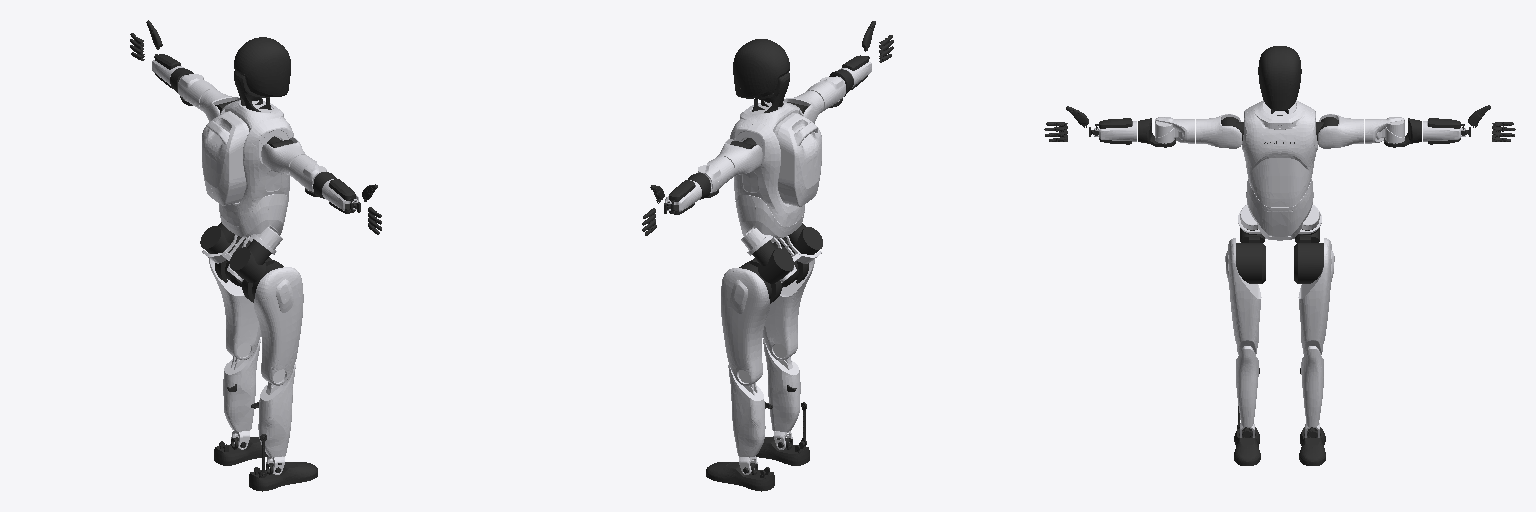
--- What the picture shows (computed from the rendered views, not written in the file) ---
The picture shows the robot from 3 angles, left to right: view 1: azimuth 30°, elevation 25°; view 2: azimuth 150°, elevation 25°; view 3: azimuth 270°, elevation 25°; orthographic projection.
Model a2_t2d0_ultra with 74 links and 73 joints (20 revolute, 53 fixed), rooted at base_link, posed all joints at 0.
Visible links, largest first — view 1: base_link, right_hip_pitch, head_link02, right_tarsus, left_tarsus, left_hip_pitch, right_toe_roll, right_hip_roll, left_toe_roll, right_arm_link02, right_arm_link03, left_arm_link03 (+3 smaller); view 2: base_link, left_hip_pitch, head_link02, left_tarsus, right_tarsus, right_hip_pitch, left_toe_roll, left_hip_roll, right_toe_roll, left_arm_link02, left_arm_link03, right_hip_roll (+3 smaller); view 3: base_link, head_link02, left_hip_pitch, right_hip_pitch, right_tarsus, left_tarsus, right_hip_yaw, left_hip_yaw, left_arm_link02, right_arm_link02, left_arm_link03, right_arm_link03 (+4 smaller).
Link boxes in pixels (box(x1,y1,x2,y2)): base_link: box(202, 100, 293, 281); right_hip_pitch: box(254, 267, 303, 385); head_link02: box(234, 37, 290, 96); right_tarsus: box(258, 364, 295, 474); left_tarsus: box(223, 339, 260, 449); left_hip_pitch: box(209, 237, 260, 359); right_toe_roll: box(249, 462, 317, 491); right_hip_roll: box(230, 239, 271, 282); left_toe_roll: box(214, 437, 267, 465); right_arm_link02: box(261, 137, 305, 176); right_arm_link03: box(289, 155, 326, 191); left_arm_link03: box(178, 74, 216, 110); base_link: box(730, 101, 821, 282); left_hip_pitch: box(721, 268, 769, 385); head_link02: box(733, 39, 789, 98); left_tarsus: box(728, 365, 765, 474); right_tarsus: box(763, 339, 800, 449); right_hip_pitch: box(763, 238, 814, 360); left_toe_roll: box(706, 462, 774, 491); left_hip_roll: box(752, 240, 793, 283); right_toe_roll: box(756, 437, 809, 465); left_arm_link02: box(717, 139, 762, 176); left_arm_link03: box(698, 156, 734, 192); right_hip_roll: box(785, 223, 822, 254); base_link: box(1238, 100, 1321, 240); head_link02: box(1258, 46, 1301, 110); left_hip_pitch: box(1298, 238, 1334, 354); right_hip_pitch: box(1225, 238, 1261, 354); right_tarsus: box(1236, 346, 1258, 437); left_tarsus: box(1301, 346, 1323, 437); right_hip_yaw: box(1236, 236, 1265, 283); left_hip_yaw: box(1294, 236, 1323, 283); left_arm_link02: box(1318, 114, 1363, 148); right_arm_link02: box(1196, 114, 1241, 148); left_arm_link03: box(1365, 117, 1404, 143); right_arm_link03: box(1155, 117, 1194, 143).
Bounding box of the posed robot: 0.3663 × 1.8 × 1.69 m (x, y, z).
Meshes: 59 distinct files referenced, 65 mesh visuals loaded (53 binary STL); not drawn: 7 (reference not matched to a file when rendering).

robot.urdf — a2_t2d0_ultra:
<?xml version="1.0" encoding="utf-8"?>
<!-- This URDF was automatically created by SolidWorks to URDF Exporter! Originally created by Stephen Brawner ([email redacted])
     Commit Version: 1.6.0-4-g7f85cfe  Build Version: 1.6.7995.38578
     For more information, please see http://wiki.ros.org/sw_urdf_exporter -->
     
<robot name="a2_t2d0_ultra">
  <link name="base_link">
    <inertial>
      <origin xyz="-0.07088950 -0.00016512 0.16138088" rpy="0 0 0" />
      <mass value="18.89945962" />
      <inertia ixx="0.59376016" iyy="0.55503329" izz="0.18455985" ixy="0.00015891" ixz="0.00353796" iyz="-0.00043902"/>
    </inertial>
    <visual>
      <origin xyz="0 0 0" rpy="0 0 0" />
      <geometry>  
        <mesh filename="../mesh/body.stl"/>
      </geometry>
      <material name="metallic silver">
        <color rgba="0.878431373 0.878431373 0.901960784 1" />
      </material>
    </visual>
    <collision>
      <origin xyz="0 0 0" rpy="0 0 0" />
      <geometry>
        <mesh filename="../convex/body_hull.stl"/>
      </geometry>
    </collision>
  </link>

  <!-- left leg -->
  <link name="left_hip_roll">
    <inertial>
      <origin xyz="0.00011252 0.02130615 -0.07465143" rpy="0 0 0" />
      <mass value="2.39059365" />
      <inertia ixx="0.00381223" iyy="0.00368166" izz="0.00334373" ixy="-0.00000253" ixz="0.00000433" iyz="0.00019809"/>
    </inertial>
    <visual>
      <origin xyz="0 0 0" rpy="0 0 0" />
      <geometry>
        <mesh filename="../mesh/left_hip_roll.stl" />
      </geometry>
      <material name="metallic black">
        <color rgba="0.235294118 0.235294118 0.235294118 1" />
      </material>
    </visual>
    <collision>
      <origin xyz="0 0 0" rpy="0 0 0" />
      <geometry>
        <mesh filename="../convex/left_hip_roll_hull.stl" />
      </geometry>
    </collision>
  </link>
  <joint name="idx01_left_hip_roll" type="revolute">
    <origin xyz="-0.0808 0.105 -0.0652" rpy="0.7854 0 1.5708" />
    <parent link="base_link" />
    <child link="left_hip_roll" />
    <axis xyz="0 0 1" />
    <limit lower="-0.698" upper="0.698" effort="120" velocity="12" />
  </joint>

  <link name="left_hip_yaw">
    <inertial>
      <origin xyz="-0.00012288 0.01576460 0.10828703" rpy="0 0 0" />
      <mass value="3.79911511" />
      <inertia ixx="0.00941292" iyy="0.01442888" izz="0.00698406" ixy="0.00000766" ixz="0.00000238" iyz="-0.00055185"/>
    </inertial>
    <visual>
      <origin xyz="0 0 0" rpy="0 0 0" />
      <geometry>
        <mesh filename="../mesh/left_hip_yaw.stl"/>
      </geometry>
      <material name="metallic black">
        <color rgba="0.235294118 0.235294118 0.235294118 1" />
      </material>
    </visual>
    <collision>
      <origin xyz="0 0 0" rpy="0 0 0" />
      <geometry>
        <mesh filename="../convex/left_hip_yaw_hull.stl"/>
      </geometry>
    </collision>
  </link>
  <joint name="idx02_left_hip_yaw" type="revolute">
    <origin xyz="0 -0.017 -0.0682" rpy="1.5708 -1.5708 0" />
    <parent link="left_hip_roll" />
    <child link="left_hip_yaw" />
    <axis xyz="0 0 1" />
    <limit lower="-1.57" upper="1.57" effort="120" velocity="12" />
  </joint>

  <link name="left_hip_pitch">
    <inertial>
      <origin xyz="-0.06943423 0.00469099 0.02228242" rpy="0 0 0" />
      <mass value="5.92461880" />
      <inertia ixx="0.01406779" iyy="0.08875802" izz="0.09356940" ixy="0.00370132" ixz="-0.00808512" iyz="0.00067639"/>
    </inertial>
    <visual>
      <origin xyz="0 0 0" rpy="0 0 0" />
      <geometry>
        <mesh filename="../mesh/left_hip_pitch.stl" />
      </geometry>
      <material name="metallic silver">
        <color rgba="0.878431373 0.878431373 0.901960784 1" />
      </material>
    </visual>
    <collision>
      <origin xyz="0 0 0" rpy="0 0 0" />
      <geometry>
        <mesh filename="../convex/left_hip_pitch_hull.stl" />
      </geometry>
    </collision>
  </link>
  <joint name="idx03_left_hip_pitch" type="revolute">
    <origin xyz="0 -0.020 0.1205" rpy="1.5708 0.7854 0" />
    <parent link="left_hip_yaw" />
    <child link="left_hip_pitch" />
    <axis xyz="0 0 1" />
    <limit lower="-1.919862144" upper="0.78539815" effort="140" velocity="12" />
  </joint>

  <link name="left_tarsus">
    <inertial>
      <origin xyz="-0.17711952 0.00417209 0.00013325" rpy="0 0 0" />
      <mass value="3.02166726" />
      <inertia ixx="0.00286094" iyy="0.02537518" izz="0.02674320" ixy="-0.00112212" ixz="0.00004708" iyz="0.00001928"/>
    </inertial>
    <visual>
      <origin xyz="0 0 0" rpy="0 0 0" />
      <geometry>
        <mesh filename="../mesh/left_tarsus.stl" />
      </geometry>
      <material name="metallic silver">
        <color rgba="0.878431373 0.878431373 0.901960784 1" />
      </material>
    </visual>
    <collision>
      <origin xyz="0 0 0" rpy="0 0 0" />
      <geometry>
        <mesh filename="../convex/left_tarsus_hull.stl" />
      </geometry>
    </collision>
  </link>
  <joint name="idx04_left_tarsus" type="revolute">
    <origin xyz="-0.34 0 0" rpy="0 0 0" />
    <parent link="left_hip_pitch" />
    <child link="left_tarsus" />
    <axis xyz="0 0 1" />
    <limit lower="-0.087266461" upper="2.443460911" effort="140" velocity="12" />
  </joint>

  <link name="left_toe_pitch">
    <inertial>
      <origin xyz="0 0 0" rpy="0 0 0" />
      <mass value="0.08772028" />
      <inertia ixx="0.00001572" iyy="0.00001128" izz="0.00001148" ixy="0.0" ixz="0.0" iyz="0.0"/>
    </inertial>
    <visual>
      <origin xyz="0 0 0" rpy="0 0 0" />
      <geometry>
        <mesh filename="../mesh/left_toe_pitch.stl"/>
      </geometry>
      <material name="metallic black">
        <color rgba="0.235294118 0.235294118 0.235294118 1" />
      </material>
    </visual>
    <collision>
      <origin xyz="0 0 0" rpy="0 0 0" />
      <geometry>
        <mesh filename="../convex/left_toe_pitch_hull.stl"/>
      </geometry>
    </collision>
  </link>
  <joint name="idx05_left_toe_pitch" type="revolute">
    <origin xyz="-0.377 0 0" rpy="0 0 0" />
    <parent link="left_tarsus" />
    <child link="left_toe_pitch" />
    <axis xyz="0 0 1" />
    <limit lower="-1.047197533" upper="0.523598767" effort="50" velocity="12" />
  </joint>

  <link name="left_toe_roll">
    <inertial>
      <origin xyz="-0.03898340 0.00002335 0.03167314" rpy="0 0 0" />
      <mass value="1.21058213" />
      <inertia ixx="0.00701152" iyy="0.00653210" izz="0.00112114" ixy="0.00000021" ixz="0.00015476" iyz="-0.00000270"/>
    </inertial>
    <visual>
      <origin xyz="0 0 0" rpy="0 0 0" />
      <geometry>
        <mesh filename="../mesh/left_toe_roll.stl" />
      </geometry>
      <material name="metallic black">
        <color rgba="0.235294118 0.235294118 0.235294118 1" />
      </material>
    </visual>
    <collision>
      <origin xyz="0 0 0" rpy="0 0 0" />
      <geometry>
        <mesh filename="../convex/left_toe_roll_hull.stl" />
      </geometry>
    </collision>
  </link>
  <joint name="idx06_left_toe_roll" type="revolute">
    <origin xyz="0 0 0" rpy="-1.5707963 0 0" />
    <parent link="left_toe_pitch" />
    <child link="left_toe_roll" />
    <axis xyz="0 0 1" />
    <limit lower="-0.488692182" upper="0.488692182" effort="50" velocity="12" />
  </joint>

  <link name="left_toe_A">
    <inertial>
      <origin xyz="0.0161339967539726 0.000256129454551002 0.00157429551114607" rpy="0 0 0" />
      <mass value="0.0959876868449394" />
      <inertia ixx="1.47306660350068E-05" ixy="7.10372384628399E-07" ixz="1.01514226468701E-05" iyy="5.94672539950203E-05" iyz="1.61153684004436E-07" izz="6.68731361080011E-05" />
    </inertial>
    <visual>
      <origin xyz="0 0 0" rpy="0 0 0" />
      <geometry>
        <mesh filename="../mesh/left_toe_A.stl" />
      </geometry>
      <material name="metallic black">
        <color rgba="0.235294118 0.235294118 0.235294118 1" />
      </material>
    </visual>
    <collision>
      <origin xyz="0 0 0" rpy="0 0 0" />
      <geometry>
        <mesh filename="../convex/left_toe_A_hull.stl" />
      </geometry>
      <material name="metallic black">
        <color rgba="0.235294118 0.235294118 0.235294118 1" />
      </material>
    </collision>
  </link>
  <joint name="idx05_01_left_toe_motorA" type="fixed">
    <origin xyz="-0.138 0 -0.0315" rpy="0 0 -1.5708" />
    <parent link="left_tarsus" />
    <child link="left_toe_A" />
    <axis xyz="0 0 1" />
    <limit lower="-1.5708" upper="1.5708" effort="0" velocity="0" />
  </joint>


  <link name="left_toe_A_rod">
    <inertial>
      <origin xyz="-0.11950903764711 -4.54312300279813E-09 2.0722082788957E-05" rpy="0 0 0" />
      <mass value="0.133194826485547" />
      <inertia ixx="4.13825335822083E-06" ixy="6.85930711305851E-12" ixz="2.45335802357092E-09" iyy="0.000625059882342822" iyz="2.33641130593936E-12" izz="0.000627531716420437" />
    </inertial>
    <visual>
      <origin xyz="0 0 0" rpy="0 0 0" />
      <geometry>
        <mesh filename="../mesh/left_toe_A_rod.stl" />
      </geometry>
      <material name="metallic black">
        <color rgba="0.235294118 0.235294118 0.235294118 1" />
      </material>
    </visual>
    <collision>
      <origin xyz="0 0 0" rpy="0 0 0" />
      <geometry>
        <mesh filename="../convex/left_toe_A_rod_hull.stl" />
      </geometry>
    </collision>
  </link>
  <joint name="idx05_01_left_toe_motorA_ball" type="fixed">
    <origin xyz="0.062992 0.001 0" rpy="-3.1416 0 1.5708" />
    <parent link="left_toe_A" />
    <child link="left_toe_A_rod" />
    <axis xyz="0 0 0" />
  </joint>

  <link name="left_toe_B">
    <inertial>
      <origin xyz="0.0161339965985728 0.000256125750057401 -0.00157429547986562" rpy="0 0 0" />
      <mass value="0.0959876865489089" />
      <inertia ixx="1.47306660936761E-05" ixy="7.10374422550964E-07" ixz="-1.0151422567557E-05" iyy="5.94672535179347E-05" iyz="-1.61154476946449E-07" izz="6.68731357299622E-05" />
    </inertial>
    <visual>
      <origin xyz="0 0 0" rpy="0 0 0" />
      <geometry>
        <mesh filename="../mesh/left_toe_B.stl" />
      </geometry>
      <material name="metallic black">
        <color rgba="0.235294118 0.235294118 0.235294118 1" />
      </material>
    </visual>
    <collision>
      <origin xyz="0 0 0" rpy="0 0 0" />
      <geometry>
        <mesh filename="../convex/left_toe_B_hull.stl" />
      </geometry>
    </collision>
  </link>
  <joint name="idx06_01_left_toe_motorB" type="fixed">
    <origin xyz="-0.232 0 0.0315" rpy="0 0 -1.5708" />
    <parent link="left_tarsus" />
    <child link="left_toe_B" />
    <axis xyz="0 0 1" />
    <limit lower="-1.5708" upper="1.5708" effort="0" velocity="0" />
  </joint>

  <link name="left_toe_B_rod">
    <inertial>
      <origin xyz="-0.0725000006179941 2.39833153337088E-11 2.75483156604583E-05" rpy="0 0 0" />
      <mass value="0.0989853087337602" />
      <inertia ixx="3.41390504492216E-06" ixy="-7.00234342247419E-12" ixz="-1.67152635087163E-13" iyy="0.000168898913472365" iyz="-6.91334604265453E-15" izz="0.000171065639810982" />
    </inertial>
    <visual>
      <origin xyz="0 0 0" rpy="0 0 0" />
      <geometry>
        <mesh filename="../mesh/left_toe_B_rod.stl" />
      </geometry>
      <material name="metallic black">
        <color rgba="0.235294118 0.235294118 0.235294118 1" />
      </material>
    </visual>
    <collision>
      <origin xyz="0 0 0" rpy="0 0 0" />
      <geometry>
        <mesh filename="../convex/left_toe_B_rod_hull.stl" />
      </geometry>
    </collision>
  </link>
  <joint name="idx06_01_left_toe_motorB_ball" type="fixed">
    <origin xyz="0.063 0.001 0" rpy="-3.14159265358666 0 1.57074160362305" />
    <parent link="left_toe_B" />
    <child link="left_toe_B_rod" />
    <axis xyz="0 0 0" />
  </joint>

  <!-- right leg -->
  <link name="right_hip_roll">
    <inertial>
      <origin xyz="-0.00011252 0.02130615 -0.07465143" rpy="0 0 0" />
      <mass value="2.39059365" />
      <inertia ixx="0.00381223" iyy="0.00368166" izz="0.00334373" ixy="0.00000253" ixz="-0.00000433" iyz="0.00019809"/>
    </inertial>
    <visual>
      <origin xyz="0 0 0" rpy="0 0 0" />
      <geometry>
        <mesh filename="../mesh/right_hip_roll.stl"/>
      </geometry>
      <material name="metallic black">
        <color rgba="0.235294118 0.235294118 0.235294118 1" />
      </material>
    </visual>
    <collision>
      <origin xyz="0 0 0" rpy="0 0 0" />
      <geometry>
        <mesh filename="../convex/right_hip_roll_hull.stl"/>
      </geometry>
    </collision>
  </link>
  <joint name="idx07_right_hip_roll" type="revolute">
    <origin xyz="-0.0808 -0.105 -0.0652" rpy="0.7854 0 1.5708" />
    <parent link="base_link" />
    <child link="right_hip_roll" />
    <axis xyz="0 0 1" />
    <limit lower="-0.698" upper="0.698" effort="120" velocity="12" />
  </joint>

  <link name="right_hip_yaw">
    <inertial>
      <origin xyz="-0.00012288 -0.01576460 0.10828703" rpy="0 0 0" />
      <mass value="3.79911511" />
      <inertia ixx="0.00941292" iyy="0.01442888" izz="0.00698406" ixy="-0.00000766" ixz="0.00000238" iyz="0.00055185"/>
    </inertial>
    <visual>
      <origin xyz="0 0 0" rpy="0 0 0" />
      <geometry>
        <mesh filename="../mesh/right_hip_yaw.stl" />
      </geometry>
      <material name="metallic black">
        <color rgba="0.235294118 0.235294118 0.235294118 1" />
      </material>
    </visual>
    <collision>
      <origin xyz="0 0 0" rpy="0 0 0" />
      <geometry>
        <mesh filename="../convex/right_hip_yaw_hull.stl"/>
      </geometry>
    </collision>
  </link>
  <joint name="idx08_right_hip_yaw" type="revolute">
    <origin xyz="0 -0.017 -0.0682" rpy="1.5708 -1.5708 0" />
    <parent link="right_hip_roll" />
    <child link="right_hip_yaw" />
    <axis xyz="0 0 1" />
    <limit lower="-1.57" upper="1.57" effort="120" velocity="12" />
  </joint>

  <link name="right_hip_pitch">
    <inertial>
      <origin xyz="-0.06943423 0.00469099 -0.02228242" rpy="0 0 0" />
      <mass value="5.92461880" />
      <inertia ixx="0.01406779" iyy="0.08875802" izz="0.09356940" ixy="0.00370132" ixz="0.00808512" iyz="-0.00067639"/>
    </inertial>
    <visual>
      <origin xyz="0 0 0" rpy="0 0 0" />
      <geometry>
        <mesh filename="../mesh/right_hip_pitch.stl" />
      </geometry>
      <material name="metallic silver">
        <color rgba="0.878431373 0.878431373 0.901960784 1" />
      </material>
    </visual>
    <collision>
      <origin xyz="0 0 0" rpy="0 0 0" />
      <geometry>
        <mesh filename="../convex/right_hip_pitch_hull.stl"/>
      </geometry>
    </collision>
  </link>
  <joint name="idx09_right_hip_pitch" type="revolute">
    <origin xyz="0 0.020 0.1205" rpy="1.5708 0.7854 0" />
    <parent link="right_hip_yaw" />
    <child link="right_hip_pitch" />
    <axis xyz="0 0 1" />
    <limit lower="-1.919862144" upper="0.78539815" effort="140" velocity="12" />
  </joint>

  <link name="right_tarsus">
    <inertial>
      <origin xyz="-0.17711952 0.00417209 -0.00013325" rpy="0 0 0" />
      <mass value="3.02166726" />
      <inertia ixx="0.00286094" iyy="0.02537518" izz="0.02674320" ixy="-0.00112212" ixz="-0.00004708" iyz="-0.00001928"/>
    </inertial>
    <visual>
      <origin xyz="0 0 0" rpy="0 0 0" />
      <geometry>
        <mesh filename="../mesh/right_tarsus.stl" />
      </geometry>
      <material name="metallic silver">
        <color rgba="0.878431373 0.878431373 0.901960784 1" />
      </material>
    </visual>
    <collision>
      <origin xyz="0 0 0" rpy="0 0 0" />
      <geometry>
        <mesh filename="../convex/right_tarsus_hull.stl"/>
      </geometry>
    </collision>
  </link>
  <joint name="idx10_right_tarsus" type="revolute">
    <origin xyz="-0.34 0 0" rpy="0 0 0" />
    <parent link="right_hip_pitch" />
    <child link="right_tarsus" />
    <axis xyz="0 0 1" />
    <limit lower="-0.087266461" upper="2.443460911" effort="140" velocity="12" />
  </joint>

  <link name="right_toe_pitch">
    <inertial>
      <origin xyz="0 0 0" rpy="0 0 0" />
      <mass value="0.08772028" />
      <inertia ixx="0.00001572" iyy="0.00001128" izz="0.00001148" ixy="0.0" ixz="0.0" iyz="0.0"/>
    </inertial>
    <visual>
      <origin xyz="0 0 0" rpy="0 0 0" />
      <geometry>
        <mesh filename="../mesh/right_toe_pitch.stl"/>
      </geometry>
      <material name="metallic black">
        <color rgba="0.235294118 0.235294118 0.235294118 1" />
      </material>
    </visual>
    <collision>
      <origin xyz="0 0 0" rpy="0 0 0" />
      <geometry>
        <mesh filename="../convex/right_toe_pitch_hull.stl"/>
      </geometry>
    </collision>
  </link>
  <joint name="idx11_right_toe_pitch" type="revolute">
    <origin xyz="-0.377 0 0" rpy="0 0 0" />
    <parent link="right_tarsus" />
    <child link="right_toe_pitch" />
    <axis xyz="0 0 1" />
    <limit lower="-1.047197533" upper="0.523598767" effort="50" velocity="12" />
  </joint>

  <link name="right_toe_roll">
    <inertial>
      <origin xyz="-0.03898340 -0.00002335 0.03167314" rpy="0 0 0" />
      <mass value="1.21058213" />
      <inertia ixx="0.00701152" iyy="0.00653210" izz="0.00112114" ixy="-0.00000021" ixz="0.00015476" iyz="0.00000270"/>
    </inertial>
    <visual>
      <origin xyz="0 0 0" rpy="0 0 0" />
      <geometry>
        <mesh filename="../mesh/right_toe_roll.stl"/>
      </geometry>
      <material name="metallic black">
        <color rgba="0.235294118 0.235294118 0.235294118 1" />
      </material>
    </visual>
    <collision>
      <origin xyz="0 0 0" rpy="0 0 0" />
      <geometry>
        <mesh filename="../convex/right_toe_roll_hull.stl"/>
      </geometry>
    </collision>
  </link>
  <joint name="idx12_right_toe_roll" type="revolute">
    <origin xyz="0 0 0" rpy="-1.5707963 0 0" />
    <parent link="right_toe_pitch" />
    <child link="right_toe_roll" />
    <axis xyz="0 0 1" />
    <limit lower="-0.488692182" upper="0.488692182" effort="50" velocity="12" />
  </joint>
  
  <link name="right_toe_A">
    <inertial>
      <origin xyz="0.0161564618609389 0.00025642819293159 -0.001574295479989" rpy="0 0 0" />
      <mass value="0.0959876865493352" />
      <inertia ixx="1.47306517352712E-05" ixy="7.09922163047177E-07" ixz="-1.01514241960403E-05" iyy="5.94672678768343E-05" iyz="-1.61051852281769E-07" izz="6.68731357306057E-05" />
    </inertial>
    <visual>
      <origin xyz="0 0 0" rpy="0 0 0" />
      <geometry>
        <mesh filename="../mesh/right_toe_A.stl"/>
      </geometry>
      <material name="metallic black">
        <color rgba="0.235294118 0.235294118 0.235294118 1" />
      </material>
    </visual>
    <collision>
      <origin xyz="0 0 0" rpy="0 0 0" />
      <geometry>
        <mesh filename="../convex/right_toe_A_hull.stl"/>
      </geometry>
    </collision>
  </link>
  <joint name="idx11_01_right_toe_motorA" type="fixed">
    <origin xyz="-0.138 0 0.0315" rpy="0 0 -1.5708" />
    <parent link="right_tarsus" />
    <child link="right_toe_A" />
    <axis xyz="0 0 1" />
    <limit lower="0" upper="0" effort="0" velocity="0" />
  </joint>

  <link name="right_toe_A_rod">
    <inertial>
      <origin xyz="-0.119506775010566 2.76775022988937E-05 2.07236899269908E-05" rpy="0 0 0" />
      <mass value="0.133194826485545" />
      <inertia ixx="4.13825457277786E-06" ixy="2.68995206710072E-08" ixz="2.45335787860636E-09" iyy="0.00062505988112825" iyz="2.44266827827242E-12" izz="0.000627531716420421" />
    </inertial>
    <visual>
      <origin xyz="0 0 0" rpy="0 0 0" />
      <geometry>
        <mesh filename="../mesh/right_toe_A_rod.stl" />
      </geometry>
      <material name="metallic black">
        <color rgba="0.235294118 0.235294118 0.235294118 1" />
      </material>
    </visual>
    <collision>
      <origin xyz="0 0 0" rpy="0 0 0" />
      <geometry>
        <mesh filename="../convex/right_toe_A_rod_hull.stl"/>
      </geometry>
    </collision>
  </link>
  <joint name="idx11_01_right_toe_motorA_ball " type="fixed">
    <origin xyz="0.062992 0.0010021 0" rpy="3.1416 0 1.5708" />
    <parent link="right_toe_A" />
    <child link="right_toe_A_rod" />
    <axis xyz="0 0 0" />
  </joint>

  <link name="right_toe_B">
    <inertial>
      <origin xyz="0.0161605408863716 0.000255895525077321 0.00157429551102603" rpy="0 0 0" />
      <mass value="0.0959876868444429" />
      <inertia ixx="1.47306045969354E-05" ixy="7.08435168511415E-07" ixz="1.01514296159037E-05" iyy="5.94673154325773E-05" iyz="1.60714100188362E-07" izz="6.68731361073396E-05" />
    </inertial>
    <visual>
      <origin xyz="0 0 0" rpy="0 0 0" />
      <geometry>
        <mesh filename="../mesh/right_toe_B.stl"/>
      </geometry>
      <material name="metallic black">
        <color rgba="0.235294118 0.235294118 0.235294118 1" />
      </material>
    </visual>
    <collision>
      <origin xyz="0 0 0" rpy="0 0 0" />
      <geometry>
        <mesh filename="../convex/right_toe_B_hull.stl"/>
      </geometry>
    </collision>
  </link>
  <joint name="idx12_01_right_toe_motorB" type="fixed">
    <origin xyz="-0.232 0 -0.0315" rpy="0 0 -1.5708" />
    <parent link="right_tarsus" />
    <child link="right_toe_B" />
    <axis xyz="0 0 1" />
    <limit lower="0" upper="0" effort="0" velocity="0" />
  </joint>
  <link name="right_toe_B_rod">
    <inertial>
      <origin xyz="-0.0724977388604912 2.97174338039705E-05 2.75478483252878E-05" rpy="0 0 0" />
      <mass value="0.0989853087337611" />
      <inertia ixx="3.41390533484477E-06" ixy="7.16306173866274E-09" ixz="-1.67153379781756E-13" iyy="0.000168898913182443" iyz="-6.92078088288279E-15" izz="0.000171065639810983" />
    </inertial>
    <visual>
      <origin xyz="0 0 0" rpy="0 0 0" />
      <geometry>
        <mesh filename="../mesh/right_toe_B_rod.stl"/>
      </geometry>
      <material name="metallic black">
        <color rgba="0.235294118 0.235294118 0.235294118 1" />
      </material>
    </visual>
    <collision>
      <origin xyz="0 0 0" rpy="0 0 0" />
      <geometry>
        <mesh filename="../convex/right_toe_B_rod_hull.stl"/>
      </geometry>
    </collision>
  </link>
  <joint name="idx12_01_right_toe_motorB_ball" type="fixed">
    <origin xyz="0.062992 0.001 0" rpy="3.1416 0 1.5707" />
    <parent link="right_toe_B" />
    <child link="right_toe_B_rod" />
    <axis xyz="0 0 0" />
  </joint>

  <!-- left arm -->
  <link name="left_arm_link_base"/>
  <joint name="left_arm_base_joint" type="fixed">
    <origin rpy="1.5707963  0 0" xyz="-0.03779 0 0.3421"/>
    <parent link="base_link"/>
    <child link="left_arm_link_base"/>
  </joint>

  <link name="left_arm_link01">
    <inertial>
      <origin xyz="-0.002330 0.008782 0.032870" rpy="0 0 0" />
      <mass value="0.276944" />
      <inertia ixx="0.000595" iyy="0.000381" izz="0.000542" ixy="-0.000006" ixz="-0.000002" iyz="0.000053"/>
    </inertial>
    <visual>
      <origin xyz="0 0 0" rpy="0 0 0" />
      <geometry>
        <mesh filename="../mesh/left_arm_link01.stl" />
      </geometry>
      <material name="metallic black">
        <color rgba="0.235294118 0.235294118 0.235294118 1" />
      </material>
    </visual>
    <collision>
      <origin xyz="0 0 0" rpy="0 0 0" />
      <geometry>
        <mesh filename="../convex/left_arm_link01_hull.stl"/>
      </geometry>
    </collision>
  </link>
  <joint name="idx13_left_arm_joint1" type="revolute">
    <origin xyz="-0.0 0.0 -0.191 " rpy="0 0 -1.5707963" />
    <parent link="left_arm_link_base" />
    <child link="left_arm_link01" />
    <axis xyz="0 0 1" />
    <limit lower="-2.967" upper="2.967" effort="0" velocity="0" />
  </joint>


  <link name="left_arm_link02">
    <inertial>
      <origin xyz="-0.000451 -0.051682 -0.001084" rpy="0 0 0" />
      <mass value="2.852114" />
      <inertia ixx="0.011984" iyy="0.002880" izz="0.011709" ixy="0.000039" ixz="0.000003" iyz="0.000140"/>
    </inertial>
    <visual>
      <origin xyz="0 0 0" rpy="0 0 0" />
      <geometry>
        <mesh filename="../mesh/left_arm_link02.stl" />
      </geometry>
      <material name="metallic silver">
        <color rgba="0.878431373 0.878431373 0.901960784 1" />
      </material>
    </visual>
    <collision>
      <origin xyz="0 0 0" rpy="0 0 0" />
      <geometry>
        <mesh filename="../convex/left_arm_link02_hull.stl"/>
      </geometry>
    </collision>
  </link>
  <joint name="idx14_left_arm_joint2" type="revolute">
    <origin xyz="0 0 -0.0" rpy="1.5707963 0 0"/>
    <parent link="left_arm_link01" />
    <child link="left_arm_link02" />
    <axis xyz="0 0 1" />
    <limit lower="-0.523598767" upper="1.658062761" effort="0" velocity="0" />
  </joint>

  <link name="left_arm_link03">
    <inertial>
      <origin xyz="-0.000673 0.001065 0.079222" rpy="0 0 0" />
      <mass value="1.310295" />
      <inertia ixx="0.002030" iyy="0.002186" izz="0.001189" ixy="-0.000008" ixz="0.000005" iyz="0.000018"/>
    </inertial>
    <visual>
      <origin xyz="0 0 0" rpy="0 0 0" />
      <geometry>
        <mesh filename="../mesh/left_arm_link03.stl" />
      </geometry>
      <material name="metallic silver">
        <color rgba="0.878431373 0.878431373 0.901960784 1" />
      </material>
    </visual>
    <collision>
      <origin xyz="0 0 0" rpy="0 0 0" />
      <geometry>
        <mesh filename="../convex/left_arm_link03_hull.stl"/>
      </geometry>
    </collision>
  </link>
  <joint name="idx15_left_arm_joint3" type="revolute">
    <origin  rpy="1.5707963 0 0" xyz="0 -0.154 0" />
    <parent link="left_arm_link02" />
    <child link="left_arm_link03" />
    <axis xyz="0 0 1" />
    <limit lower="-2.967" upper="2.967" effort="0" velocity="0" />
  </joint>


  <link name="left_arm_link04">
    <inertial>
      <origin xyz="0.000273 -0.066853 -0.007408" rpy="0 0 0" />
      <mass value="0.677343" />
     <inertia ixx="0.000893" iyy="0.000508" izz="0.000767" ixy="-0.000001" ixz="-0.000002" iyz="0.000238"/>
    </inertial>
    <visual>
      <origin xyz="0 0 0" rpy="0 0 0" />
      <geometry>
        <mesh filename="../mesh/left_arm_link04.stl" />
      </geometry>
      <material name="metallic black">
        <color rgba="0.235294118 0.235294118 0.235294118 1" />
      </material>
    </visual>
    <collision>
      <origin xyz="0 0 0" rpy="0 0 0" />
      <geometry>
        <mesh filename="../convex/left_arm_link04_hull.stl"/>
      </geometry>
    </collision>
  </link>
  <joint name="idx16_left_arm_joint4" type="revolute">
    <origin xyz="0 0 0.093" rpy="-1.5707963  0  1.5707963" />
    <parent link="left_arm_link03" />
    <child link="left_arm_link04" />
    <axis xyz="0 0 1" />
    <limit lower="-2.094395067" upper="0" effort="0" velocity="0" />
  </joint>

  <link name = "left_arm_link05">
    <inertial>
      <origin xyz="-0.001962 -0.000002 0.071786" rpy="0 0 0" />
      <mass value="0.260886" />
      <inertia ixx="0.000638" iyy="0.000618" izz="0.000229" ixy="0.000000" ixz="0.000015" iyz="0.000000"/>
    </inertial>
    <visual name = "">
      <origin rpy = "0.0 0.0 0.0" xyz = "0.0 0.0 0.0" />
      <geometry>
        <mesh filename="../mesh/left_arm_link05.stl" />
      </geometry>
      <material name="metallic silver">
        <color rgba="0.878431373 0.878431373 0.901960784 1" />
      </material>
    </visual>
    <collision>
      <origin xyz="0 0 0" rpy="0 0 0" />
      <geometry>
        <mesh filename="../convex/left_arm_link05_hull.stl"/>
      </geometry>
    </collision>
  </link>
  <joint name = "idx17_left_arm_joint5" type = "fixed">
    <origin xyz = "0  -0.103 0.0" rpy = "1.5707963 0 0"  />
    <parent link = "left_arm_link04" />
    <child link = "left_arm_link05" />
    <axis xyz = "0 0 1" />
    <limit lower = "-2.87979" upper = "2.87979" velocity = "0.0" effort = "0"/>
  </joint>


  <link name = "left_arm_link06">
    <inertial>
      <origin xyz="0.00018011 -0.00021701 0.00000000" rpy="0 0 0" />
      <mass value="0.02504627" />
      <inertia ixx="0.00000197" iyy="0.00000173" izz="0.00000071" ixy="0.00000000" ixz="0.00000000" iyz="0.00000000"/>
    </inertial>
    <visual name = "">
      <origin rpy = "0.0 0.0 0.0" xyz = "0.0 0.0 0.0" />
      <geometry>
        <mesh filename="../mesh/left_arm_link06.stl" />
      </geometry>
      <material name="metallic black">
        <color rgba="0.235294118 0.235294118 0.235294118 1" />
      </material>
    </visual>
    <collision>
      <origin xyz="0 0 0" rpy="0 0 0" />
      <geometry>
        <mesh filename="../convex/left_arm_link06_hull.stl"/>
      </geometry>
    </collision>
  </link>
   <joint name = "idx18_left_arm_joint6" type = "fixed">
    <origin xyz="-0.01 0 0.1595" rpy="-1.5707963 1.5707963 0" />
    <parent link = "left_arm_link05" />
    <child link = "left_arm_link06" />
    <axis xyz = "0 0 1" />
    <limit lower = "-0.785398" upper = "0.785398" velocity = "0.0" effort = "0" />
  </joint>

  <link name = "left_arm_link07">
    <inertial>
      <origin xyz="-0.01211757 -0.00009712 0.00886324" rpy="0 0 0" />
      <mass value="0.05050219" />
      <inertia ixx="0.00000828" iyy="0.00001140" izz="0.00001294" ixy="0.00000006" ixz="-0.00000179" iyz="0.00000004"/>
    </inertial>
    <visual name = "">
      <origin rpy = "0.0 0.0 0.0" xyz = "0.0 0.0 0.0" />
      <geometry>
        <mesh filename="../mesh/left_arm_link07.stl" />
      </geometry>
      <material name="metallic black">
        <color rgba="0.235294118 0.235294118 0.235294118 1" />
      </material>
    </visual>
    <collision>
      <origin xyz="0 0 0" rpy="0 0 0" />
      <geometry>
        <mesh filename="../convex/left_arm_link07_hull.stl"/>
      </geometry>
    </collision>
  </link>
  <joint name = "idx19_left_arm_joint7" type = "fixed">
    <origin xyz="0 0 0" rpy="1.5707963 0 0" />
    <parent link = "left_arm_link06" />
    <child link = "left_arm_link07" />
    <axis xyz = "0 0 1" />
    <limit lower="-0.5236" upper="0.5236" effort="0" velocity="0" />
  </joint>

  <joint name = "left_arm_joint07_fixed" type = "fixed">
    <origin rpy = "1.5707963 0 -1.5707963" xyz = "0 0 0" />
    <parent link = "left_arm_link07" />
    <child link = "left_hand" />
  </joint>
  <link name="left_hand">
    <inertial>
      <origin xyz="-0.00174346841701916 0.00527579194314928 0.0630645733021228" rpy="0 0 0" />
      <mass value="0.153951635222705" />
      <inertia ixx="8.73156029524248e-05" ixy="2.76454788715318e-07" ixz="-6.56394653650542e-07" iyy="0.00013139692405234" iyz="2.87478350015867e-06" izz="6.85856479957296e-05" />
    </inertial>
    <visual> 
      <origin xyz="0 0 0" rpy="0 0 0" />
      <geometry>
        <mesh filename="../mesh/R_paw.stl" scale="1 -1 1" />
      </geometry>
      <material name="metallic silver">
        <color rgba="0.878431373 0.878431373 0.901960784 1" />
      </material>
    </visual>
    <collision>
      <origin xyz="0 0 0" rpy="0 0 0" />
      <geometry>
        <mesh filename="../convex/R_paw_hull.stl" scale="1 -1 1" />
      </geometry>
    </collision>
  </link>
  <link name="L_thumb_swing">
    <inertial>
      <origin xyz="-0.00794385183139725 -0.000525120612119151 0.00647353069427367" rpy="0 0 0" />
      <mass value="0.00344766519929713" />
      <inertia ixx="9.46681111469513e-08" ixy="-2.82870154716105e-09" ixz="6.48803833821274e-10" iyy="1.37273777260403e-07" iyz="4.31486298309418e-11" izz="9.49138662594884e-08" />
    </inertial>
    <visual>
      <origin xyz="0 0 0" rpy="0 0 0" />
      <geometry>
        <mesh filename="../mesh/R_thumb_swing.stl" scale="1 -1 1" />
      </geometry>
      <material name="metallic black">
        <color rgba="0.235294118 0.235294118 0.235294118 1" />
      </material>
    </visual>
    <collision>
      <origin xyz="0 0 0" rpy="0 0 0" />
      <geometry>
        <mesh filename="../convex/R_thumb_swing_hull.stl" scale="1 -1 1" />
      </geometry>
    </collision>
  </link>
  <joint name="L_thumb_swing_joint" type="fixed">
    <origin xyz="-0.029178 -0.01525 0.0384" rpy="0 0 0" />
    <parent link="left_hand"/>
    <child link="L_thumb_swing" />
    <axis xyz="0 0 1" />
    <limit lower="0" upper="2.286" effort="1" velocity="100" />
  </joint>
  <link name="L_thumb_1">
    <inertial>
      <origin xyz="0.0259002099345081 0.0127439796878742 1.99493196570838e-05" rpy="0 0 0" />
      <mass value="0.0221480762523199" />
      <inertia ixx="3.31629342056679e-06" ixy="-8.26036894806839e-07" ixz="5.55467469886505e-10" iyy="3.39227446692523e-06" iyz="2.74467395508138e-09" izz="5.78826252617142e-06" />
    </inertial>
    <visual>
      <origin xyz="0 0 0" rpy="0 0 0" />
      <geometry>
        <mesh filename="../mesh/R_thumb_1.stl" scale="1 1 -1" />
      </geometry>
      <material name="metallic black">
        <color rgba="0.235294118 0.235294118 0.235294118 1" />
      </material>
    </visual>
    <collision>
      <origin xyz="0 0 0" rpy="0 0 0" />
      <geometry>
        <mesh filename="../convex/R_thumb_1_hull.stl" scale="1 1 -1" />
      </geometry>
    </collision>
  </link>
  <joint name="L_thumb_1_joint" type="fixed">
    <origin xyz="-0.013367 0.00088357 -0.0052468" rpy="1.5708 0 3.0756" />
    <parent link="L_thumb_swing" />
    <child link="L_thumb_1" />
    <axis xyz="0 0 1" />
    <limit lower="0" upper="0.78" effort="1" velocity="100" />
  </joint>
  <link name="L_thumb_2">
    <inertial>
      <origin xyz="0.0112938280283933 0.00190048762153883 0.00768932284017045" rpy="0 0 0" />
      <mass value="0.00380031199387229" />
      <inertia ixx="4.33768382054372e-07" ixy="-3.01457326686904e-08" ixz="2.51640808750991e-11" iyy="3.41487853815651e-07" iyz="8.87078510861614e-11" izz="4.77629558482899e-07" />
    </inertial>
    <visual>
      <origin xyz="0 0 0" rpy="0 0 0" />
      <geometry>
        <mesh filename="../mesh/R_thumb_2.stl" scale="1 1 -1" />
      </geometry>
      <material name="metallic black">
        <color rgba="0.235294118 0.235294118 0.235294118 1" />
      </material>
    </visual>
    <collision>
      <origin xyz="0 0 0" rpy="0 0 0" />
      <geometry>
        <mesh filename="../convex/R_thumb_2_hull.stl" scale="1 1 -1" />
      </geometry>
    </collision>
  </link>
  <joint name="L_thumb_2_joint" type="fixed">
    <origin xyz="0.0389415822724812 0.0379042246431505 -0.00770000000000043" rpy="0 0 0" />
    <parent link="L_thumb_1" />
    <child link="L_thumb_2" />
    <axis xyz="0 0 1" />
    <limit lower="0" upper="0.9144" effort="1" velocity="100" />
    <mimic joint="L_thumb_1_joint" multiplier="0.40" offset="0" />
  </joint>
  <link name="L_thumb_3">
    <inertial>
      <origin xyz="0.00856534554797862 0.00586022128255342 0.00530182283153385" rpy="0 0 0" />
      <mass value="0.0067706894584641" />
      <inertia ixx="4.15501197420746e-07" ixy="-1.25284733421831e-07" ixz="-1.14020106815917e-10" iyy="2.49677035533967e-07" iyz="-1.89120892374144e-10" izz="4.96219470794644e-07" />
    </inertial>
    <visual>
      <origin xyz="0 0 0" rpy="0 0 0" />
      <geometry>
        <mesh filename="../mesh/R_thumb_3.stl" scale="1 1 -1" />
      </geometry>
      <material name="metallic black">
        <color rgba="0.235294118 0.235294118 0.235294118 1" />
      </material>
    </visual>
    <collision>
      <origin xyz="0 0 0" rpy="0 0 0" />
      <geometry>
        <mesh filename="../convex/R_thumb_3_hull.stl" scale="1 1 -1" />
      </geometry>
    </collision>
  </link>
  <joint name="L_thumb_3_joint" type="fixed">
    <origin xyz="0.01728 0.014743 0.0024" rpy="0 0 0" />
    <parent link="L_thumb_2" />
    <child link="L_thumb_3" />
    <axis xyz="0 0 1" />
    <limit lower="0" upper="1.3716" effort="1" velocity="100" />
    <mimic joint="L_thumb_1_joint" multiplier="0.60" offset="0" />
  </joint>
  <link name="L_index_1">
    <inertial>
      <origin xyz="-0.00224105284932037 0.012077244969504 -0.0060501936211354" rpy="0 0 0" />
      <mass value="0.00439457695368253" />
      <inertia ixx="6.7083586478962e-07" ixy="6.24488990875019e-09" ixz="-3.08577901734797e-12" iyy="2.67077182124417e-07" iyz="6.36376851728619e-12" izz="6.64566137309628e-07" />
    </inertial>
    <visual>
      <origin xyz="0 0 0" rpy="0 0 0" />
      <geometry>
        <mesh filename="../mesh/R_index_1.stl" scale="-1 1 1" />
      </geometry>
      <material name="metallic black">
        <color rgba="0.235294118 0.235294118 0.235294118 1" />
      </material>
    </visual>
    <collision>
      <origin xyz="0 0 0" rpy="0 0 0" />
      <geometry>
        <mesh filename="../convex/R_index_1_hull.stl" scale="-1 1 1" />
      </geometry>
    </collision>
  </link>
  <joint name="L_index_1_joint" type="fixed">
    <origin xyz="-0.034645 0.0059953 0.11967" rpy="1.6319 0 -1.5708" />
    <parent link="left_hand"/>
    <child link="L_index_1" />
    <axis xyz="0 0 -1" />
    <limit lower="0" upper="1.7" effort="1" velocity="100" />
  </joint>
  <link name="L_index_2">
    <inertial>
      <origin xyz="-0.00267181156648408 0.0187445889538955 -0.00504998556104182" rpy="0 0 0" />
      <mass value="0.00571203807044643" />
      <inertia ixx="8.55148442316881e-07" ixy="-8.71729684204069e-08" ixz="8.24415168858219e-14" iyy="1.37439550017429e-07" iyz="-2.39445035228549e-12" izz="8.7133999943214e-07" />
    </inertial>
    <visual>
      <origin xyz="0 0 0" rpy="0 0 0" />
      <geometry>
        <mesh filename="../mesh/R_index_2.stl" scale="-1 1 1" />
      </geometry>
      <material name="metallic black">
        <color rgba="0.235294118 0.235294118 0.235294118 1" />
      </material>
    </visual>
    <collision>
      <origin xyz="0 0 0" rpy="0 0 0" />
      <geometry>
        <mesh filename="../convex/R_index_2_hull.stl" scale="-1 1 1" />
      </geometry>
    </collision>
  </link>
  <joint name="L_index_2_joint" type="fixed">
    <origin xyz="-0.00025731 0.032131 -0.001" rpy="0 0 0" />
    <parent link="L_index_1" />
    <child link="L_index_2" />
    <axis xyz="0 0 -1" />
    <limit lower="0" upper="1.7" effort="1" velocity="100" />
      <mimic joint="L_index_1_joint" multiplier="1" offset="0" />
  </joint>
  <link name="L_middle_1">
    <inertial>
      <origin xyz="-0.00224109922728143 0.0120773004987843 -0.00605026659163534" rpy="0 0 0" />
      <mass value="0.00439459313596441" />
      <inertia ixx="6.70837166910088e-07" ixy="-6.24455169745287e-09" ixz="3.25321014718543e-12" iyy="2.67075608382375e-07" iyz="7.72285454063169e-12" izz="6.64566599226699e-07" />
    </inertial>
    <visual>
      <origin xyz="0 0 0" rpy="0 0 0" />
      <geometry>
        <mesh filename="../mesh/R_middle_1.stl" scale="-1 1 1" />
      </geometry>
      <material name="metallic black">
        <color rgba="0.235294118 0.235294118 0.235294118 1" />
      </material>
    </visual>
    <collision>
      <origin xyz="0 0 0" rpy="0 0 0" />
      <geometry>
        <mesh filename="../convex/R_middle_1_hull.stl" scale="-1 1 1" />
      </geometry>
    </collision>
  </link>
  <joint name="L_middle_1_joint" type="fixed">
    <origin xyz="-0.014728 0.0059953 0.1205" rpy="1.5708 0 -1.5708" />
    <parent link="left_hand"/>
    <child link="L_middle_1" />
    <axis xyz="0 0 -1" />
    <limit lower="0" upper="1.7" effort="1" velocity="100" />
  </joint>
  <link name="L_middle_2">
    <inertial>
      <origin xyz="-0.00298222684069903 0.0208035344929268 -0.00505001299185808" rpy="0 0 0" />
      <mass value="0.00621146132075292" />
      <inertia ixx="1.14490560231061e-06" ixy="-9.72401476943198e-08" ixz="-1.3517205790896e-13" iyy="1.43751808502962e-07" iyz="-2.47497784308553e-12" izz="1.15530613342501e-06" />
    </inertial>
    <visual>
      <origin xyz="0 0 0" rpy="0 0 0" />
      <geometry>
        <mesh filename="../mesh/R_middle_2.stl" scale="-1 1 1" />
      </geometry>
      <material name="metallic black">
        <color rgba="0.235294118 0.235294118 0.235294118 1" />
      </material>
    </visual>
    <collision>
      <origin xyz="0 0 0" rpy="0 0 0" />
      <geometry>
        <mesh filename="../convex/R_middle_2_hull.stl" scale="-1 1 1" />
      </geometry>
    </collision>
  </link>
  <joint name="L_middle_2_joint" type="fixed">
    <origin xyz="-0.000257313524408706 0.0321313914917268 -0.000999999999997433" rpy="0 0 0" />
    <parent link="L_middle_1" />
    <child link="L_middle_2" />
    <axis xyz="0 0 -1" />
    <limit lower="0" upper="1.7" effort="1" velocity="100" />
      <mimic joint="L_middle_1_joint" multiplier="1" offset="0" />
  </joint>
  <link name="L_ring_1">
    <inertial>
      <origin xyz="-0.00224111083051005 0.0120773228749342 -0.00605025463459374" rpy="0 0 0" />
      <mass value="0.00439459971330683" />
      <inertia ixx="6.70838404636804e-07" ixy="6.24505446614477e-09" ixz="-3.11377919594888e-12" iyy="2.67075452784363e-07" iyz="6.97432649840291e-12" izz="6.64567590491197e-07" />
    </inertial>
    <visual>
      <origin xyz="0 0 0" rpy="0 0 0" />
      <geometry>
        <mesh filename="../mesh/R_ring_1.stl" scale="-1 1 1" />
      </geometry>
      <material name="metallic black">
        <color rgba="0.235294118 0.235294118 0.235294118 1" />
      </material>
    </visual>
    <collision>
      <origin xyz="0 0 0" rpy="0 0 0" />
      <geometry>
        <mesh filename="../convex/R_ring_1_hull.stl" scale="-1 1 1" />
      </geometry>
    </collision>
  </link>
  <joint name="L_ring_1_joint" type="fixed">
    <origin xyz="0.0060088 0.0059953 0.12031" rpy="1.5184 0 -1.5708" />
    <parent link="left_hand"/>
    <child link="L_ring_1" />
    <axis xyz="0 0 -1" />
    <limit lower="0" upper="1.7" effort="1" velocity="100" />
  </joint>
  <link name="L_ring_2">
    <inertial>
      <origin xyz="-0.00298222724294862 0.0208035302665959 -0.00505000729887283" rpy="0 0 0" />
      <mass value="0.0062114646816875" />
      <inertia ixx="1.14490597705472e-06" ixy="-9.724016633507e-08" ixz="-1.8724939827074e-14" iyy="1.43751909738487e-07" iyz="-2.55418863081498e-12" izz="1.15530647485239e-06" />
    </inertial>
    <visual>
      <origin xyz="0 0 0" rpy="0 0 0" />
      <geometry>
        <mesh filename="../mesh/R_ring_2.stl" scale="-1 1 1" />
      </geometry>
      <material name="metallic black">
        <color rgba="0.235294118 0.235294118 0.235294118 1" />
      </material>
    </visual>
    <collision>
      <origin xyz="0 0 0" rpy="0 0 0" />
      <geometry>
        <mesh filename="../convex/R_ring_2_hull.stl" scale="-1 1 1" />
      </geometry>
    </collision>
  </link>
  <joint name="L_ring_2_joint" type="fixed">
    <origin xyz="-0.00025731 0.032131 -0.001" rpy="0 0 0" />
    <parent link="L_ring_1" />
    <child link="L_ring_2" />
    <axis xyz="0 0 -1" />
    <limit lower="0" upper="1.7" effort="1" velocity="100" />
      <mimic joint="L_ring_1_joint" multiplier="1" offset="0" />
  </joint>
  <link name="L_pinky_1">
    <inertial>
      <origin xyz="-0.00224116685703836 0.0120774556144769 -0.00605021177667593" rpy="0 0 0" />
      <mass value="0.00439465496713926" />
      <inertia ixx="6.70846058569314e-07" ixy="6.24765025269437e-09" ixz="-2.14363990209694e-12" iyy="2.67077034128326e-07" iyz="4.49364771164151e-12" izz="6.64575163698131e-07" />
    </inertial>
    <visual>
      <origin xyz="0 0 0" rpy="0 0 0" />
      <geometry>
        <mesh filename="../mesh/R_pinky_1.stl" scale="-1 1 1" />
      </geometry>
      <material name="metallic black">
        <color rgba="0.235294118 0.235294118 0.235294118 1" />
      </material>
    </visual>
    <collision>
      <origin xyz="0 0 0" rpy="0 0 0" />
      <geometry>
        <mesh filename="../convex/R_pinky_1_hull.stl" scale="-1 1 1" />
      </geometry>
    </collision>
  </link>
  <joint name="L_pinky_1_joint" type="fixed">
    <origin xyz="0.026254 0.0059953 0.11901" rpy="1.4661 0 -1.5708" />
    <parent link="left_hand"/>
    <child link="L_pinky_1" />
    <axis xyz="0 0 -1" />
    <limit lower="0" upper="1.7" effort="1" velocity="100" />
  </joint>
  <link name="L_pinky_2">
    <inertial>
      <origin xyz="-0.00379562052007763 0.0143619415198121 -0.00504990649038004" rpy="0 0 0" />
      <mass value="0.00441618939121693" />
      <inertia ixx="4.4165258349127e-07" ixy="-2.35241296174338e-08" ixz="1.03160129872049e-12" iyy="9.72293330312645e-08" iyz="3.91885258086726e-12" izz="4.50179231370321e-07" />
    </inertial>
    <visual>
      <origin xyz="0 0 0" rpy="0 0 0" />
      <geometry>
        <mesh filename="../mesh/R_pinky_2.stl" scale="-1 1 1" />
      </geometry>
      <material name="metallic black">
        <color rgba="0.235294118 0.235294118 0.235294118 1" />
      </material>
    </visual>
    <collision>
      <origin xyz="0 0 0" rpy="0 0 0" />
      <geometry>
        <mesh filename="../convex/R_pinky_2_hull.stl" scale="-1 1 1" />
      </geometry>
    </collision>
  </link>
  <joint name="L_pinky_2_joint" type="fixed">
    <origin xyz="-0.00025731 0.032131 -0.001" rpy="0 0 0" />
    <parent link="L_pinky_1" />
    <child link="L_pinky_2" />
    <axis xyz="0 0 -1" />
    <limit lower="0" upper="1.7" effort="1" velocity="100" />
      <mimic joint="L_pinky_1_joint" multiplier="1" offset="0" />
  </joint>

  <joint name="left_wrist_motor_A_ball" type="fixed">
    <origin xyz="0.005 0.02245 0.0245" rpy="0 -3.126778944 0" />
    <parent link="left_arm_link05" />
    <child link="left_wrist_motor_A" />
  </joint>
  <link name="left_wrist_motor_A">
    <visual>
      <origin xyz="0 0 0" rpy="0 0 0" />
      <geometry>
        <mesh filename="../mesh/left_wrist_motor_A.stl" />
      </geometry>
      <material name="metallic black">
        <color rgba="0.235294118 0.235294118 0.235294118 1" />
      </material>
    </visual>
    <collision>
      <origin xyz="0 0 0" rpy="0 0 0" />
      <geometry>
        <mesh filename="../convex/left_wrist_motor_A_hull.stl"/>
      </geometry>
    </collision>
  </link>

  <joint name="left_wrist_rod_A_joint" type="fixed">
    <origin xyz="0 0 -0.135015" rpy="0 3.1415926535 0" />
    <parent link="left_wrist_motor_A" />
    <child link="left_wrist_rod_A" />
    <axis xyz="0 0 1" />
    <limit lower="-0.01199" upper="0.01204" effort="0" velocity="0" />
  </joint>
  <link name="left_wrist_rod_A">
    <visual>
      <origin xyz="0 0 0" rpy="0 0 0" />
      <geometry>
        <mesh filename="../mesh/left_wrist_rod_A.stl" />
      </geometry>
      <material name="metallic black">
        <color rgba="0.235294118 0.235294118 0.235294118 1" />
      </material>
    </visual>
    <collision>
      <origin xyz="0 0 0" rpy="0 0 0" />
      <geometry>
        <mesh filename="../convex/left_wrist_rod_A_hull.stl"/>
      </geometry>
    </collision>
  </link>

  <joint name="left_wrist_motor_B_ball" type="fixed">
    <origin xyz="0.005 -0.02245 0.0245" rpy="0 -3.126778944 0" />
    <parent link="left_arm_link05" />
    <child link="left_wrist_motor_B" />
  </joint>
  <link name="left_wrist_motor_B">
    <visual>
      <origin xyz="0 0 0" rpy="0 0 0" />
      <geometry>
        <mesh filename="../mesh/left_wrist_motor_B.stl" />
      </geometry>
      <material name="metallic black">
        <color rgba="0.235294118 0.235294118 0.235294118 1" />
      </material>
    </visual>
    <collision>
      <origin xyz="0 0 0" rpy="0 0 0" />
      <geometry>
        <mesh filename="../convex/left_wrist_motor_B_hull.stl"/>
      </geometry>
    </collision>
  </link>

  <joint name="left_wrist_rod_B_joint" type="fixed">
    <origin xyz="0 0 -0.135015" rpy="0 3.1415926535 0" />
    <parent link="left_wrist_motor_B" />
    <child link="left_wrist_rod_B" />
    <axis xyz="0 0 1" />
    <limit lower="-0.01199" upper="0.01204" effort="0" velocity="0" />
  </joint>
  <link name="left_wrist_rod_B">
    <visual>
      <origin xyz="0 0 0" rpy="0 0 0" />
      <geometry>
        <mesh filename="../mesh/left_wrist_rod_B.stl" />
      </geometry>
      <material name="metallic black">
        <color rgba="0.235294118 0.235294118 0.235294118 1" />
      </material>
    </visual>
    <collision>
      <origin xyz="0 0 0" rpy="0 0 0" />
      <geometry>
        <mesh filename="../convex/left_wrist_rod_B_hull.stl"/>
      </geometry>
    </collision>
  </link>

  <!-- right arm -->
  <link name="right_arm_link_base"/>
  <joint name="right_arm_base_joint" type="fixed">
    <origin rpy="1.5707963  0 0" xyz="-0.03779 0 0.3421"/>
    <parent link="base_link"/>
    <child link="right_arm_link_base"/>
  </joint>

  <link name="right_arm_link01">
    <inertial>
      <origin xyz="-0.002330 0.008782 -0.032870" rpy="0 0 0" />
      <mass value="0.276944" />
      <inertia ixx="0.000595" iyy="0.000381" izz="0.000542" ixy="-0.000006" ixz="0.000002" iyz="-0.000053"/>
    </inertial>
    <visual>
      <origin xyz="0 0 0" rpy="0 0 0" />
      <geometry>
        <mesh filename="../mesh/right_arm_link01.stl" />
      </geometry>
      <material name="metallic black">
        <color rgba="0.235294118 0.235294118 0.235294118 1" />
      </material>
    </visual>
    <collision>
      <origin xyz="0 0 0" rpy="0 0 0" />
      <geometry>
        <mesh filename="../convex/right_arm_link01_hull.stl"/>
      </geometry>
    </collision>
  </link>
  <joint name="idx20_right_arm_joint1" type="revolute">
    <origin xyz="-0.0 0.0 0.191 " rpy="0   0  -1.5707963" />
    <parent link="right_arm_link_base" />
    <child link="right_arm_link01" />
    <axis xyz="0 0 1" />
    <limit lower="-2.967" upper="2.967" effort="0" velocity="0" />
  </joint>

  <link name="right_arm_link02">
    <inertial>
      <origin xyz="-0.000451 0.051682 -0.001084" rpy="0 0 0" />
      <mass value="2.852114" />
      <inertia ixx="0.011984" iyy="0.002880" izz="0.011709" ixy="-0.000039" ixz="0.000003" iyz="-0.000140"/>
    </inertial>
    <visual>
      <origin xyz="0 0 0" rpy="0 0 0" />
      <geometry>
        <mesh filename="../mesh/right_arm_link02.stl" />
      </geometry>
      <material name="metallic silver">
        <color rgba="0.878431373 0.878431373 0.901960784 1" />
      </material>
    </visual>
    <collision>
      <origin xyz="0 0 0" rpy="0 0 0" />
      <geometry>
        <mesh filename="../convex/right_arm_link02_hull.stl"/>
      </geometry>
    </collision>
  </link>
  <joint name="idx21_right_arm_joint2" type="revolute">
    <origin xyz="0 0 0.0" rpy="1.5707963 0 0"/>
    <parent link="right_arm_link01" />
    <child link="right_arm_link02" />
    <axis xyz="0 0 1" />
    <limit lower="-1.658062761" upper="0.523598767" effort="0" velocity="0" />
  </joint>



  <link name="right_arm_link03">
    <inertial>
      <origin xyz="-0.000673 0.001065 -0.079222" rpy="0 0 0" />
      <mass value="1.310295" />
      <inertia ixx="0.002030" iyy="0.002186" izz="0.001189" ixy="-0.000008" ixz="-0.000005" iyz="-0.000018"/>
    </inertial>
    <visual>
      <origin xyz="0 0 0" rpy="0 0 0" />
      <geometry>
        <mesh filename="../mesh/right_arm_link03.stl" />
      </geometry>
      <material name="metallic silver">
        <color rgba="0.878431373 0.878431373 0.901960784 1" />
      </material>
    </visual>
    <collision>
      <origin xyz="0 0 0" rpy="0 0 0" />
      <geometry>
        <mesh filename="../convex/right_arm_link03_hull.stl"/>
      </geometry>
    </collision>
  </link>
  <joint name="idx22_right_arm_joint3" type="revolute">
    <origin xyz="0 0.154  0" rpy="1.5707963 0 0" />
    <parent link="right_arm_link02" />
    <child link="right_arm_link03" />
    <axis xyz="0 0 1" />
    <limit lower="-2.967" upper="2.967" effort="0" velocity="0" />
  </joint>


  <link name="right_arm_link04">
    <inertial>
      <origin xyz="0.000273 0.066853 -0.007408" rpy="0 0 0" />
      <mass value="0.677343" />
     <inertia ixx="0.000893" iyy="0.000508" izz="0.000767" ixy="0.000001" ixz="-0.000002" iyz="-0.000238"/>
    </inertial>
    <visual>
      <origin xyz="0 0 0" rpy="0 0 0" />
      <geometry>
        <mesh filename="../mesh/right_arm_link04.stl" />
      </geometry>
      <material name="metallic black">
        <color rgba="0.235294118 0.235294118 0.235294118 1" />
      </material>
    </visual>
    <collision>
      <origin xyz="0 0 0" rpy="0 0 0" />
      <geometry>
        <mesh filename="../convex/right_arm_link04_hull.stl"/>
      </geometry>
    </collision>
  </link>
  <joint name="idx23_right_arm_joint4" type="revolute">
    <origin xyz="0 0 -0.093" rpy="-1.5707963 0 1.5707963" />
    <parent link="right_arm_link03" />
    <child link="right_arm_link04" />
    <axis xyz="0 0 1" />
    <limit lower="0" upper="2.094395067" effort="0" velocity="0" />
  </joint>


 
  <link name = "right_arm_link05">
    <inertial>
      <origin xyz="-0.001962 -0.000002 -0.071786" rpy="0 0 0" />
      <mass value="0.260886" />
      <inertia ixx="0.000638" iyy="0.000618" izz="0.000229" ixy="0.000000" ixz="-0.000015" iyz="-0.000000"/>
    </inertial>
    <visual name = "">
      <origin rpy = "0.0 0.0 0.0" xyz = "0.0 0.0 0.0" />
      <geometry>
        <mesh filename="../mesh/right_arm_link05.stl" />
      </geometry>
      <material name="metallic silver">
        <color rgba="0.878431373 0.878431373 0.901960784 1" />
      </material>
    </visual>
    <collision>
      <origin xyz="0 0 0" rpy="0 0 0" />
      <geometry>
        <mesh filename="../convex/right_arm_link05_hull.stl"/>
      </geometry>
    </collision>
  </link>
  <joint name = "idx24_right_arm_joint5" type = "fixed">
    <origin xyz = "0  0.103 0.0" rpy = "1.5707963 0 0"  />
    <parent link = "right_arm_link04" />
    <child link = "right_arm_link05" />
    <axis xyz = "0 0 1" />
    <limit lower = "-2.87979" upper = "2.87979" velocity = "0.0" effort = "0.0"/>
  </joint>

  
  <link name = "right_arm_link06">
    <inertial>
      <origin xyz="-0.00018011 -0.00021701 0.00000000" rpy="0 0 0" />
      <mass value="0.02504627" />
      <inertia ixx="0.00000197" iyy="0.00000173" izz="0.00000071" ixy="-0.00000000" ixz="-0.00000000" iyz="0.00000000"/>
    </inertial>
    <visual name = "">
      <origin rpy = "0.0 0.0 0.0" xyz = "0.0 0.0 0.0" />
      <geometry>
        <mesh filename="../mesh/right_arm_link06.stl" />
      </geometry>
      <material name="metallic black">
        <color rgba="0.235294118 0.235294118 0.235294118 1" />
      </material>
    </visual>
    <collision>
      <origin xyz="0 0 0" rpy="0 0 0" />
      <geometry>
        <mesh filename="../convex/right_arm_link06_hull.stl"/>
      </geometry>
    </collision>
  </link>
  <joint name = "idx25_right_arm_joint6" type = "fixed">
    <origin xyz="-0.01 0 -0.1595" rpy="-1.5707963 1.5707963 0" />
    <parent link = "right_arm_link05" />
    <child link = "right_arm_link06" />
    <axis xyz = "0 0 1" />
    <limit lower = "-0.785398" upper = "0.785398" velocity = "0.0" effort = "0.0"/>
  </joint>

  
  <link name = "right_arm_link07">
    <inertial>
      <origin xyz="0.01211757 -0.00009712 0.00886324" rpy="0 0 0" />
      <mass value="0.05050219" />
      <inertia ixx="0.00000828" iyy="0.00001140" izz="0.00001294" ixy="-0.00000006" ixz="0.00000179" iyz="0.00000004"/>
    </inertial>
    <visual name = "">
      <origin rpy = "0.0 0.0 0.0" xyz = "0.0 0.0 0.0" />
      <geometry>
        <mesh filename="../mesh/right_arm_link07.stl" />
      </geometry>
      <material name="metallic black">
        <color rgba="0.235294118 0.235294118 0.235294118 1" />
      </material>
    </visual>
    <collision>
      <origin xyz="0 0 0" rpy="0 0 0" />
      <geometry>
        <mesh filename="../convex/right_arm_link07_hull.stl"/>
      </geometry>
    </collision>
  </link>
  <joint name = "idx26_right_arm_joint7" type = "fixed">
    <origin xyz="0 0 0" rpy="1.5707963 0 0" />
    <parent link="right_arm_link06" />
    <child link="right_arm_link07" />
    <axis xyz="0 0 1" />
    <limit lower="-0.5236" upper="0.5236" effort="0" velocity="0" />
  </joint>

  <joint name = "right_arm_joint07_fixed" type = "fixed">
    <origin rpy = "-1.5707963 0 -1.5707963" xyz = "0 0 0" />
    <parent link = "right_arm_link07" />
    <child link = "right_hand" />
  </joint>
  <link name="right_hand">
    <inertial>
      <origin xyz="-0.00174346841701916 -0.00527579194314928 0.0630645733021228" rpy="0 0 0" />
      <mass value="0.153951635222705" />
      <inertia ixx="8.73156029524248e-05" ixy="-2.76454788715318e-07" ixz="-6.56394653650542e-07" iyy="0.00013139692405234" iyz="-2.87478350015867e-06" izz="6.85856479957296e-05" />
    </inertial>
    <visual> 
      <origin xyz="0 0 0" rpy="0 0 0" />
      <geometry>
        <mesh filename="../mesh/R_paw.stl" />
      </geometry>
      <material name="metallic silver">
        <color rgba="0.878431373 0.878431373 0.901960784 1" />
      </material>
    </visual>
    <collision>
      <origin xyz="0 0 0" rpy="0 0 0" />
      <geometry>
        <mesh filename="../convex/R_paw_hull.stl" />
      </geometry>
    </collision>
  </link>
  <link name="R_thumb_swing">
    <inertial>
      <origin xyz="-0.00794385183139725 0.000525120612119151 0.00647353069427367" rpy="0 0 0" />
      <mass value="0.00344766519929713" />
      <inertia ixx="9.46681111469513e-08" ixy="2.82870154716105e-09" ixz="6.48803833821274e-10" iyy="1.37273777260403e-07" iyz="-4.31486298309418e-11" izz="9.49138662594884e-08" />
    </inertial>
    <visual>
      <origin xyz="0 0 0" rpy="0 0 0" />
      <geometry>
        <mesh filename="../mesh/R_thumb_swing.stl" />
      </geometry>
      <material name="metallic black">
        <color rgba="0.235294118 0.235294118 0.235294118 1" />
      </material>
    </visual>
    <collision>
      <origin xyz="0 0 0" rpy="0 0 0" />
      <geometry>
        <mesh filename="../convex/R_thumb_swing_hull.stl" />
      </geometry>
    </collision>
  </link>
  <joint name="R_thumb_swing_joint" type="fixed">
    <origin xyz="-0.029178 0.01525 0.0384" rpy="0 0 0" />
    <parent link="right_hand"/>
    <child link="R_thumb_swing" />
    <axis xyz="0 0 -1" />
    <limit lower="0" upper="2.286" effort="1" velocity="100" />
  </joint>
  <link name="R_thumb_1">
    <inertial>
      <origin xyz="0.0259002099345081 0.0127439796878742 -1.99493196570838e-05" rpy="0 0 0" />
      <mass value="0.0221480762523199" />
      <inertia ixx="3.31629342056679e-06" ixy="-8.26036894806839e-07" ixz="-5.55467469886505e-10" iyy="3.39227446692523e-06" iyz="-2.74467395508138e-09" izz="5.78826252617142e-06" />
    </inertial>
    <visual>
      <origin xyz="0 0 0" rpy="0 0 0" />
      <geometry>
        <mesh filename="../mesh/R_thumb_1.stl" />
      </geometry>
      <material name="metallic black">
        <color rgba="0.235294118 0.235294118 0.235294118 1" />
      </material>
    </visual>
    <collision>
      <origin xyz="0 0 0" rpy="0 0 0" />
      <geometry>
        <mesh filename="../convex/R_thumb_1_hull.stl" />
      </geometry>
    </collision>
  </link>
  <joint name="R_thumb_1_joint" type="fixed">
    <origin xyz="-0.013367 0.00088357 0.0052468" rpy="1.5708 0 3.0756" />
    <parent link="R_thumb_swing" />
    <child link="R_thumb_1" />
    <axis xyz="0 0 1" />
    <limit lower="0" upper="0.78" effort="1" velocity="100" />
  </joint>
  <link name="R_thumb_2">
    <inertial>
      <origin xyz="0.0112938280283933 0.00190048762153883 -0.00768932284017045" rpy="0 0 0" />
      <mass value="0.00380031199387229" />
      <inertia ixx="4.33768382054372e-07" ixy="-3.01457326686904e-08" ixz="-2.51640808750991e-11" iyy="3.41487853815651e-07" iyz="-8.87078510861614e-11" izz="4.77629558482899e-07" />
    </inertial>
    <visual>
      <origin xyz="0 0 0" rpy="0 0 0" />
      <geometry>
        <mesh filename="../mesh/R_thumb_2.stl" />
      </geometry>
      <material name="metallic black">
        <color rgba="0.235294118 0.235294118 0.235294118 1" />
      </material>
    </visual>
    <collision>
      <origin xyz="0 0 0" rpy="0 0 0" />
      <geometry>
        <mesh filename="../convex/R_thumb_2_hull.stl" />
      </geometry>
    </collision>
  </link>
  <joint name="R_thumb_2_joint" type="fixed">
    <origin xyz="0.0389415822724812 0.0379042246431505 0.00770000000000043" rpy="0 0 0" />
    <parent link="R_thumb_1" />
    <child link="R_thumb_2" />
    <axis xyz="0 0 1" />
    <limit lower="0" upper="3.14" effort="1" velocity="100" />
    <mimic joint="R_thumb_1_joint" multiplier="0.40" offset="0" />
  </joint>
  <link name="R_thumb_3">
    <inertial>
      <origin xyz="0.00856534554797862 0.00586022128255342 -0.00530182283153385" rpy="0 0 0" />
      <mass value="0.0067706894584641" />
      <inertia ixx="4.15501197420746e-07" ixy="-1.25284733421831e-07" ixz="1.14020106815917e-10" iyy="2.49677035533967e-07" iyz="1.89120892374144e-10" izz="4.96219470794644e-07" />
    </inertial>
    <visual>
      <origin xyz="0 0 0" rpy="0 0 0" />
      <geometry>
        <mesh filename="../mesh/R_thumb_3.stl" />
      </geometry>
      <material name="metallic black">
        <color rgba="0.235294118 0.235294118 0.235294118 1" />
      </material>
    </visual>
    <collision>
      <origin xyz="0 0 0" rpy="0 0 0" />
      <geometry>
        <mesh filename="../convex/R_thumb_3_hull.stl" />
      </geometry>
    </collision>
  </link>
  <joint name="R_thumb_3_joint" type="fixed">
    <origin xyz="0.01728 0.014743 -0.0024" rpy="0 0 0" />
    <parent link="R_thumb_2" />
    <child link="R_thumb_3" />
    <axis xyz="0 0 1" />
    <limit lower="0" upper="3.14" effort="1" velocity="100" />
    <mimic joint="R_thumb_1_joint" multiplier="0.60" offset="0" />
  </joint>
  <link name="R_index_1">
    <inertial>
      <origin xyz="0.00224105284932037 0.012077244969504 -0.0060501936211354" rpy="0 0 0" />
      <mass value="0.00439457695368253" />
      <inertia ixx="6.7083586478962e-07" ixy="-6.24488990875019e-09" ixz="3.08577901734797e-12" iyy="2.67077182124417e-07" iyz="6.36376851728619e-12" izz="6.64566137309628e-07" />
    </inertial>
    <visual>
      <origin xyz="0 0 0" rpy="0 0 0" />
      <geometry>
        <mesh filename="../mesh/R_index_1.stl" />
      </geometry>
      <material name="metallic black">
        <color rgba="0.235294118 0.235294118 0.235294118 1" />
      </material>
    </visual>
    <collision>
      <origin xyz="0 0 0" rpy="0 0 0" />
      <geometry>
        <mesh filename="../convex/R_index_1_hull.stl" />
      </geometry>
    </collision>
  </link>
  <joint name="R_index_1_joint" type="fixed">
    <origin xyz="-0.034645 -0.0059953 0.11967" rpy="1.6319 0 -1.5708" />
    <parent link="right_hand"/>
    <child link="R_index_1" />
    <axis xyz="0 0 1" />
    <limit lower="0" upper="1.7" effort="1" velocity="100" />
  </joint>
  <link name="R_index_2">
    <inertial>
      <origin xyz="0.00267181156648408 0.0187445889538955 -0.00504998556104182" rpy="0 0 0" />
      <mass value="0.00571203807044643" />
      <inertia ixx="8.55148442316881e-07" ixy="8.71729684204069e-08" ixz="-8.24415168858219e-14" iyy="1.37439550017429e-07" iyz="-2.39445035228549e-12" izz="8.7133999943214e-07" />
    </inertial>
    <visual>
      <origin xyz="0 0 0" rpy="0 0 0" />
      <geometry>
        <mesh filename="../mesh/R_index_2.stl" />
      </geometry>
      <material name="metallic black">
        <color rgba="0.235294118 0.235294118 0.235294118 1" />
      </material>
    </visual>
    <collision>
      <origin xyz="0 0 0" rpy="0 0 0" />
      <geometry>
        <mesh filename="../convex/R_index_2_hull.stl" />
      </geometry>
    </collision>
  </link>
  <joint name="R_index_2_joint" type="fixed">
    <origin xyz="-0.00025731 0.032131 -0.001" rpy="0 0 0" />
    <parent link="R_index_1" />
    <child link="R_index_2" />
    <axis xyz="0 0 1" />
    <limit lower="0" upper="1.7" effort="1" velocity="100" />
      <mimic joint="R_index_1_joint" multiplier="1" offset="0" />
  </joint>
  <link name="R_middle_1">
    <inertial>
      <origin xyz="0.00224109922728143 0.0120773004987843 -0.00605026659163534" rpy="0 0 0" />
      <mass value="0.00439459313596441" />
      <inertia ixx="6.70837166910088e-07" ixy="-6.24455169745287e-09" ixz="3.25321014718543e-12" iyy="2.67075608382375e-07" iyz="7.72285454063169e-12" izz="6.64566599226699e-07" />
    </inertial>
    <visual>
      <origin xyz="0 0 0" rpy="0 0 0" />
      <geometry>
        <mesh filename="../mesh/R_middle_1.stl" />
      </geometry>
      <material name="metallic black">
        <color rgba="0.235294118 0.235294118 0.235294118 1" />
      </material>
    </visual>
    <collision>
      <origin xyz="0 0 0" rpy="0 0 0" />
      <geometry>
        <mesh filename="../convex/R_middle_1_hull.stl" />
      </geometry>
    </collision>
  </link>
  <joint name="R_middle_1_joint" type="fixed">
    <origin xyz="-0.014728 -0.0059953 0.1205" rpy="1.5708 0 -1.5708" />
    <parent link="right_hand"/>
    <child link="R_middle_1" />
    <axis xyz="0 0 1" />
    <limit lower="0" upper="1.7" effort="1" velocity="100" />
  </joint>
  <link name="R_middle_2">
    <inertial>
      <origin xyz="0.00298222684069903 0.0208035344929268 -0.00505001299185808" rpy="0 0 0" />
      <mass value="0.00621146132075292" />
      <inertia ixx="1.14490560231061e-06" ixy="9.72401476943198e-08" ixz="1.3517205790896e-13" iyy="1.43751808502962e-07" iyz="-2.47497784308553e-12" izz="1.15530613342501e-06" />
    </inertial>
    <visual>
      <origin xyz="0 0 0" rpy="0 0 0" />
      <geometry>
        <mesh filename="../mesh/R_middle_2.stl" />
      </geometry>
      <material name="metallic black">
        <color rgba="0.235294118 0.235294118 0.235294118 1" />
      </material>
    </visual>
    <collision>
      <origin xyz="0 0 0" rpy="0 0 0" />
      <geometry>
        <mesh filename="../convex/R_middle_2_hull.stl" />
      </geometry>
    </collision>
  </link>
  <joint name="R_middle_2_joint" type="fixed">
    <origin xyz="-0.000257313524408706 0.0321313914917268 -0.000999999999997433" rpy="0 0 0" />
    <parent link="R_middle_1" />
    <child link="R_middle_2" />
    <axis xyz="0 0 1" />
    <limit lower="0" upper="1.7" effort="1" velocity="100" />
      <mimic joint="R_middle_1_joint" multiplier="1" offset="0" />
  </joint>
  <link name="R_ring_1">
    <inertial>
      <origin xyz="0.00224111083051005 0.0120773228749342 -0.00605025463459374" rpy="0 0 0" />
      <mass value="0.00439459971330683" />
      <inertia ixx="6.70838404636804e-07" ixy="-6.24505446614477e-09" ixz="3.11377919594888e-12" iyy="2.67075452784363e-07" iyz="6.97432649840291e-12" izz="6.64567590491197e-07" />
    </inertial>
    <visual>
      <origin xyz="0 0 0" rpy="0 0 0" />
      <geometry>
        <mesh filename="../mesh/R_ring_1.stl" />
      </geometry>
      <material name="metallic black">
        <color rgba="0.235294118 0.235294118 0.235294118 1" />
      </material>
    </visual>
    <collision>
      <origin xyz="0 0 0" rpy="0 0 0" />
      <geometry>
        <mesh filename="../convex/R_ring_1_hull.stl" />
      </geometry>
    </collision>
  </link>
  <joint name="R_ring_1_joint" type="fixed">
    <origin xyz="0.0060088 -0.0059953 0.12031" rpy="1.5184 0 -1.5708" />
    <parent link="right_hand"/>
    <child link="R_ring_1" />
    <axis xyz="0 0 1" />
    <limit lower="0" upper="1.7" effort="1" velocity="100" />
  </joint>
  <link name="R_ring_2">
    <inertial>
      <origin xyz="0.00298222724294862 0.0208035302665959 -0.00505000729887283" rpy="0 0 0" />
      <mass value="0.0062114646816875" />
      <inertia ixx="1.14490597705472e-06" ixy="9.724016633507e-08" ixz="1.8724939827074e-14" iyy="1.43751909738487e-07" iyz="-2.55418863081498e-12" izz="1.15530647485239e-06" />
    </inertial>
    <visual>
      <origin xyz="0 0 0" rpy="0 0 0" />
      <geometry>
        <mesh filename="../mesh/R_ring_2.stl" />
      </geometry>
      <material name="metallic black">
        <color rgba="0.235294118 0.235294118 0.235294118 1" />
      </material>
    </visual>
    <collision>
      <origin xyz="0 0 0" rpy="0 0 0" />
      <geometry>
        <mesh filename="../convex/R_ring_2_hull.stl" />
      </geometry>
    </collision>
  </link>
  <joint name="R_ring_2_joint" type="fixed">
    <origin xyz="-0.00025731 0.032131 -0.001" rpy="0 0 0" />
    <parent link="R_ring_1" />
    <child link="R_ring_2" />
    <axis xyz="0 0 1" />
    <limit lower="0" upper="1.7" effort="1" velocity="100" />
      <mimic joint="R_ring_1_joint" multiplier="1" offset="0" />
  </joint>
  <link name="R_pinky_1">
    <inertial>
      <origin xyz="0.00224116685703836 0.0120774556144769 -0.00605021177667593" rpy="0 0 0" />
      <mass value="0.00439465496713926" />
      <inertia ixx="6.70846058569314e-07" ixy="-6.24765025269437e-09" ixz="2.14363990209694e-12" iyy="2.67077034128326e-07" iyz="4.49364771164151e-12" izz="6.64575163698131e-07" />
    </inertial>
    <visual>
      <origin xyz="0 0 0" rpy="0 0 0" />
      <geometry>
        <mesh filename="../mesh/R_pinky_1.stl" />
      </geometry>
      <material name="metallic black">
        <color rgba="0.235294118 0.235294118 0.235294118 1" />
      </material>
    </visual>
    <collision>
      <origin xyz="0 0 0" rpy="0 0 0" />
      <geometry>
        <mesh filename="../convex/R_pinky_1_hull.stl" />
      </geometry>
    </collision>
  </link>
  <joint name="R_pinky_1_joint" type="fixed">
    <origin xyz="0.026254 -0.0059953 0.11901" rpy="1.4661 0 -1.5708" />
    <parent link="right_hand"/>
    <child link="R_pinky_1" />
    <axis xyz="0 0 1" />
    <limit lower="0" upper="1.7" effort="1" velocity="100" />
  </joint>
  <link name="R_pinky_2">
    <inertial>
      <origin xyz="0.00379562052007763 0.0143619415198121 -0.00504990649038004" rpy="0 0 0" />
      <mass value="0.00441618939121693" />
      <inertia ixx="4.4165258349127e-07" ixy="2.35241296174338e-08" ixz="-1.03160129872049e-12" iyy="9.72293330312645e-08" iyz="3.91885258086726e-12" izz="4.50179231370321e-07" />
    </inertial>
    <visual>
      <origin xyz="0 0 0" rpy="0 0 0" />
      <geometry>
        <mesh filename="../mesh/R_pinky_2.stl" />
      </geometry>
      <material name="metallic black">
        <color rgba="0.235294118 0.235294118 0.235294118 1" />
      </material>
    </visual>
    <collision>
      <origin xyz="0 0 0" rpy="0 0 0" />
      <geometry>
        <mesh filename="../convex/R_pinky_2_hull.stl" />
      </geometry>
    </collision>
  </link>
  <joint name="R_pinky_2_joint" type="fixed">
    <origin xyz="-0.00025731 0.032131 -0.001" rpy="0 0 0" />
    <parent link="R_pinky_1" />
    <child link="R_pinky_2" />
    <axis xyz="0 0 1" />
    <limit lower="0" upper="1.7" effort="1" velocity="100" />
      <mimic joint="R_pinky_1_joint" multiplier="1" offset="0" />
  </joint>

  <joint name="right_wrist_motor_A_ball" type="fixed">
    <origin xyz="0.005 0.02245 -0.0245" rpy="0 -0.01481371 0" />
    <parent link="right_arm_link05" />
    <child link="right_wrist_motor_A" />
  </joint>
  <link name="right_wrist_motor_A">
    <visual>
      <origin xyz="0 0 0" rpy="0 0 0" />
      <geometry>
        <mesh filename="../mesh/right_wrist_motor_A.stl" />
      </geometry>
      <material name="metallic black">
        <color rgba="0.235294118 0.235294118 0.235294118 1" />
      </material>
    </visual>
    <collision>
      <origin xyz="0 0 0" rpy="0 0 0" />
      <geometry>
        <mesh filename="../convex/right_wrist_motor_A_hull.stl"/>
      </geometry>
    </collision>
  </link>

  <joint name="right_wrist_rod_A_joint" type="fixed">
    <origin xyz="0 0 -0.135015" rpy="0 3.1415926535 0" />
    <parent link="right_wrist_motor_A" />
    <child link="right_wrist_rod_A" />
    <axis xyz="0 0 1" />
    <limit lower="-0.01199" upper="0.01204" effort="0" velocity="0" />
  </joint>
  <link name="right_wrist_rod_A">
    <visual>
      <origin xyz="0 0 0" rpy="0 0 0" />
      <geometry>
        <mesh filename="../mesh/right_wrist_rod_A.stl" />
      </geometry>
      <material name="metallic black">
        <color rgba="0.235294118 0.235294118 0.235294118 1" />
      </material>
    </visual>
    <collision>
      <origin xyz="0 0 0" rpy="0 0 0" />
      <geometry>
        <mesh filename="../convex/right_wrist_rod_A_hull.stl" />
      </geometry>
    </collision>
  </link>

  <joint name="right_wrist_motor_B_ball" type="fixed">
    <origin xyz="0.005 -0.02245 -0.0245" rpy="0 -0.01481371 0" />
    <parent link="right_arm_link05" />
    <child link="right_wrist_motor_B" />
  </joint>
  <link name="right_wrist_motor_B">
    <visual>
      <origin xyz="0 0 0" rpy="0 0 0" />
      <geometry>
        <mesh filename="../mesh/right_wrist_motor_B.stl"/>
      </geometry>
      <material name="metallic black">
        <color rgba="0.235294118 0.235294118 0.235294118 1" />
      </material>
    </visual>
    <collision>
      <origin xyz="0 0 0" rpy="0 0 0" />
      <geometry>
        <mesh filename="../convex/right_wrist_motor_B_hull.stl"/>
      </geometry>
    </collision>
  </link>

  <joint name="right_wrist_rod_B_joint" type="fixed">
    <origin xyz="0 0 -0.135015" rpy="0 3.1415926535 0" />
    <parent link="right_wrist_motor_B" />
    <child link="right_wrist_rod_B" />
    <axis xyz="0 0 1" />
    <limit lower="-0.01199" upper="0.01204" effort="0" velocity="0" />
  </joint>
  <link name="right_wrist_rod_B">
    <visual>
      <origin xyz="0 0 0" rpy="0 0 0" />
      <geometry>
        <mesh filename="../mesh/right_wrist_rod_B.stl" />
      </geometry>
      <material name="metallic black">
        <color rgba="0.235294118 0.235294118 0.235294118 1" />
      </material>
    </visual>
    <collision>
      <origin xyz="0 0 0" rpy="0 0 0" />
      <geometry>
        <mesh filename="../convex/right_wrist_rod_B_hull.stl" />
      </geometry>
    </collision>
  </link>


  <link name="head_link01">
    <inertial>
      <origin xyz="-0.00154008 0.00649494 0.11627791" rpy="0 0 0" />
      <mass value="1.39889495" />
      <inertia ixx="0.00378192" iyy="0.00393150" izz="0.00152438" ixy="-0.00000282" ixz="0.00029671" iyz="-0.00021616"/>
    </inertial>
    <visual>
      <origin xyz="0 0 0" rpy="0 0 0" />
      <geometry>
        <mesh filename="../mesh/head_link01.stl" />
      </geometry>
      <material name="metallic black">
        <color rgba="0.235294118 0.235294118 0.235294118 1" />
      </material>
    </visual>
    <collision>
      <origin xyz="0 0 0" rpy="0 0 0" />
      <geometry>
        <mesh filename="../convex/head_link01_hull.stl"/>
      </geometry>
    </collision>
  </link>
  <joint name="idx27_head_joint1" type="fixed">
    <origin xyz="-0.03779 0 0.4101" rpy="0 0 0" />
    <parent link="base_link" />
    <child link="head_link01" />
    <axis xyz="0 0 1" />
    <limit lower="-2.2" upper="2.2" effort="0" velocity="0" />
  </joint>

  <link name="head_link02">
    <inertial>
      <origin xyz="0.03256533 0.02834041 0.00009476" rpy="0 0 0" />
      <mass value="0.65606942" />
      <inertia ixx="0.00350189" iyy="0.00369636" izz="0.00360950" ixy="0.00039729" ixz="-0.00000150" iyz="0.00000231"/>
    </inertial>
    <visual>
      <origin xyz="0 0 0" rpy="0 0 0" />
      <geometry>
        <mesh filename="../mesh/head_link02.stl" />
      </geometry>
      <material name="metallic black">
        <color rgba="0.235294118 0.235294118 0.235294118 1" />
      </material>
    </visual>
    <collision>
      <origin xyz="0 0 0" rpy="0 0 0" />
      <geometry>
        <mesh filename="../convex/head_link02_hull.stl"/>
      </geometry>
    </collision>
  </link>
  <joint name="idx28_head_joint2" type="fixed">
    <origin xyz="-0.00501 0 0.16059" rpy="1.5708 0 0" />
    <parent link="head_link01" />
    <child link="head_link02" />
    <axis xyz="0 0 1" />
    <limit lower="-0.5" upper="0.5" effort="0" velocity="0" />
  </joint>

  <link name="logo">
    <visual>
      <origin xyz="0 0 0" rpy="0 0 0" />
      <geometry>
        <mesh filename="../mesh/logo.stl" />
      </geometry>
      <material name="metallic black">
        <color rgba="0.235294118 0.235294118 0.235294118 1" />
      </material>
    </visual>
  </link>
  <joint name="logo_fixed" type="fixed">
    <origin xyz="0 0 0" rpy="0 0 0" />
    <parent link="base_link" />
    <child link="logo" />
  </joint>
</robot>
